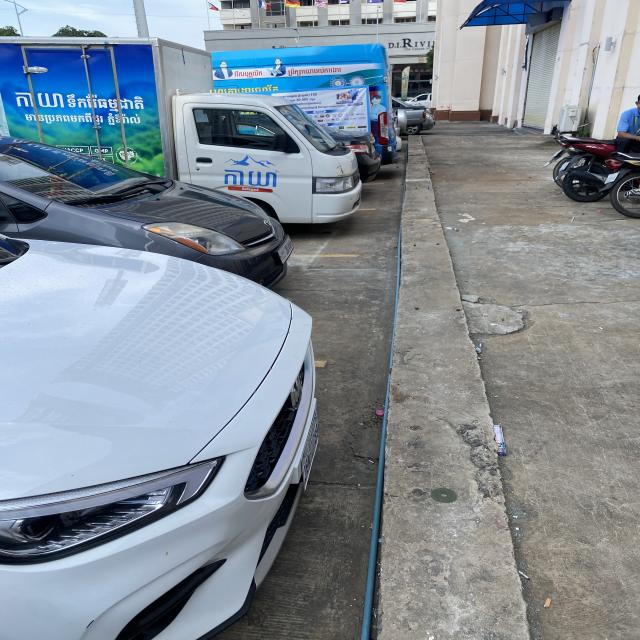Yolov11kh: (65, 93, 148, 110), (221, 168, 279, 188), (12, 90, 68, 109), (22, 112, 94, 125), (286, 65, 343, 77), (232, 69, 263, 79), (120, 112, 141, 125), (106, 112, 119, 127), (240, 187, 261, 192)
